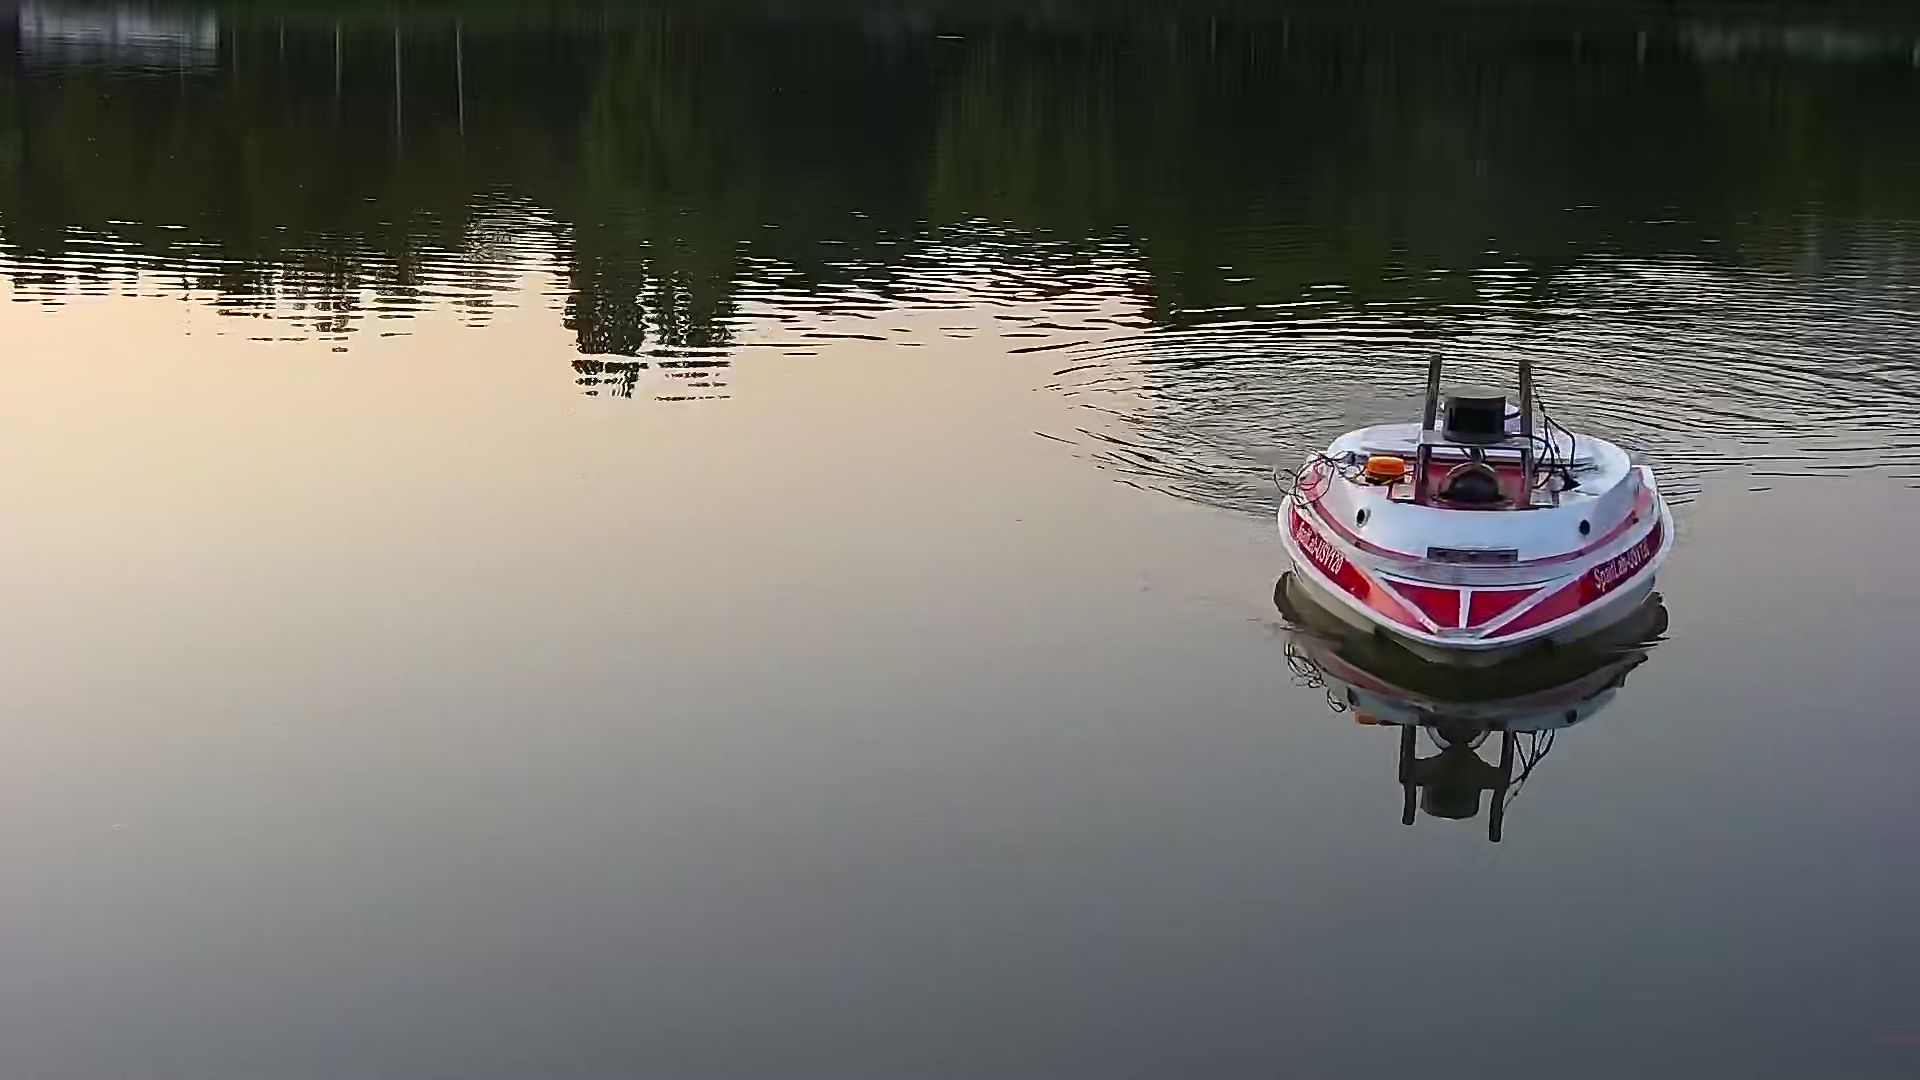boat: (1274, 359, 1683, 673)
